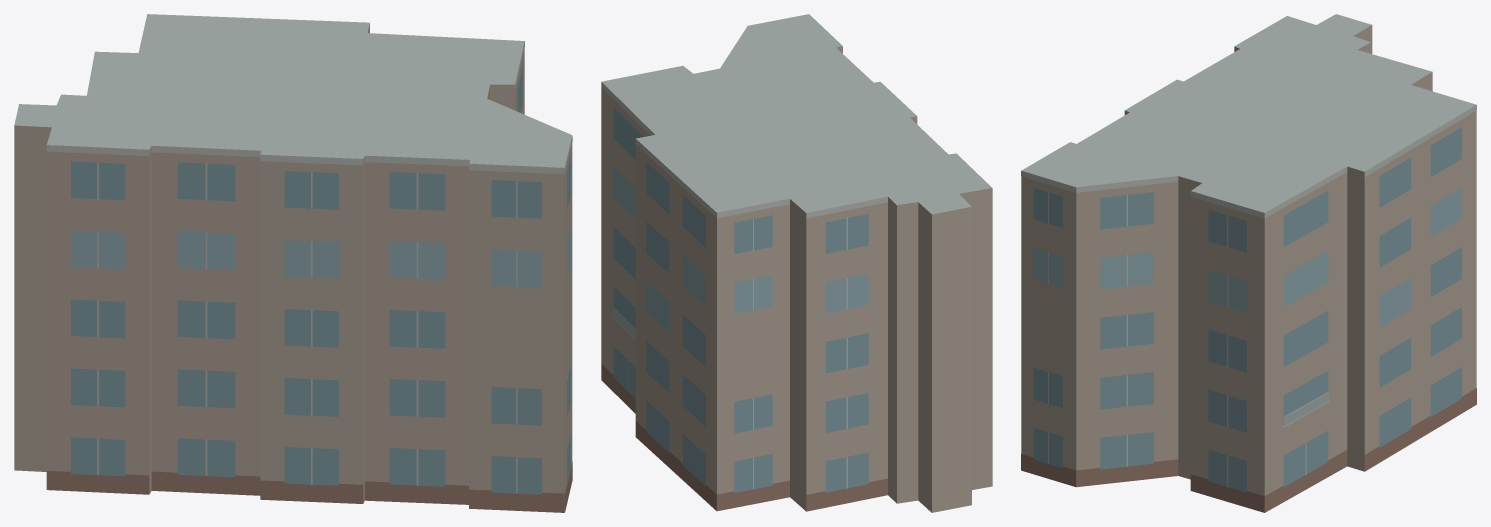
The model's file is survey-upis-32549332.glb.
The picture shows the model from 3 angles, left to right: view 1: azimuth 30°, elevation 25°; view 2: azimuth 150°, elevation 25°; view 3: azimuth 270°, elevation 25°; orthographic projection. The views are drawn at different scales.
Parts seen in each view (by area): view 1: survey-upis-32549332.tmp; view 2: survey-upis-32549332.tmp; view 3: survey-upis-32549332.tmp.
Part boxes in pixels (x1=…): survey-upis-32549332.tmp: x1=14, y1=14, x2=572, y2=512; survey-upis-32549332.tmp: x1=601, y1=14, x2=992, y2=512; survey-upis-32549332.tmp: x1=1021, y1=14, x2=1476, y2=512.
Size of the model in its own units: 18.51 by 13 by 17.91.
